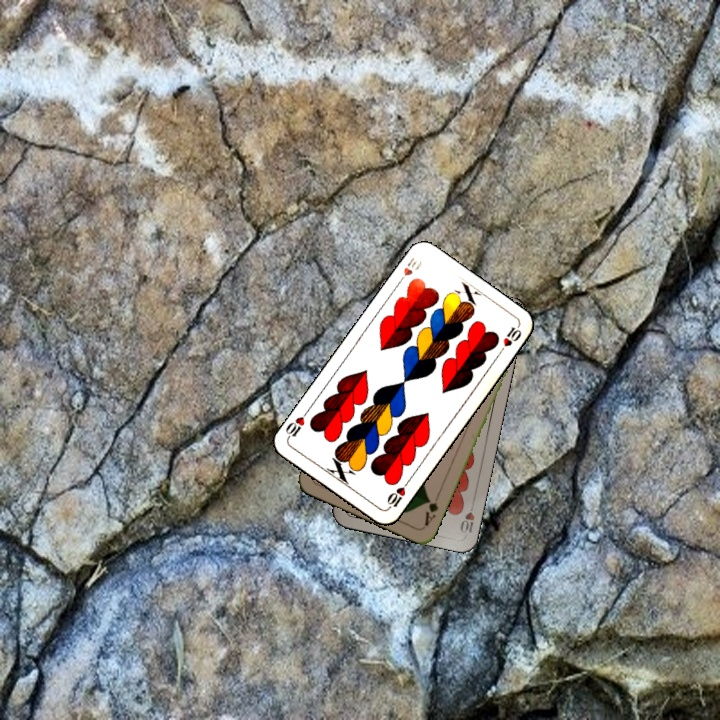GA: (420, 490, 442, 529)
H10: (393, 253, 425, 287), (383, 477, 412, 512), (456, 497, 477, 536)
